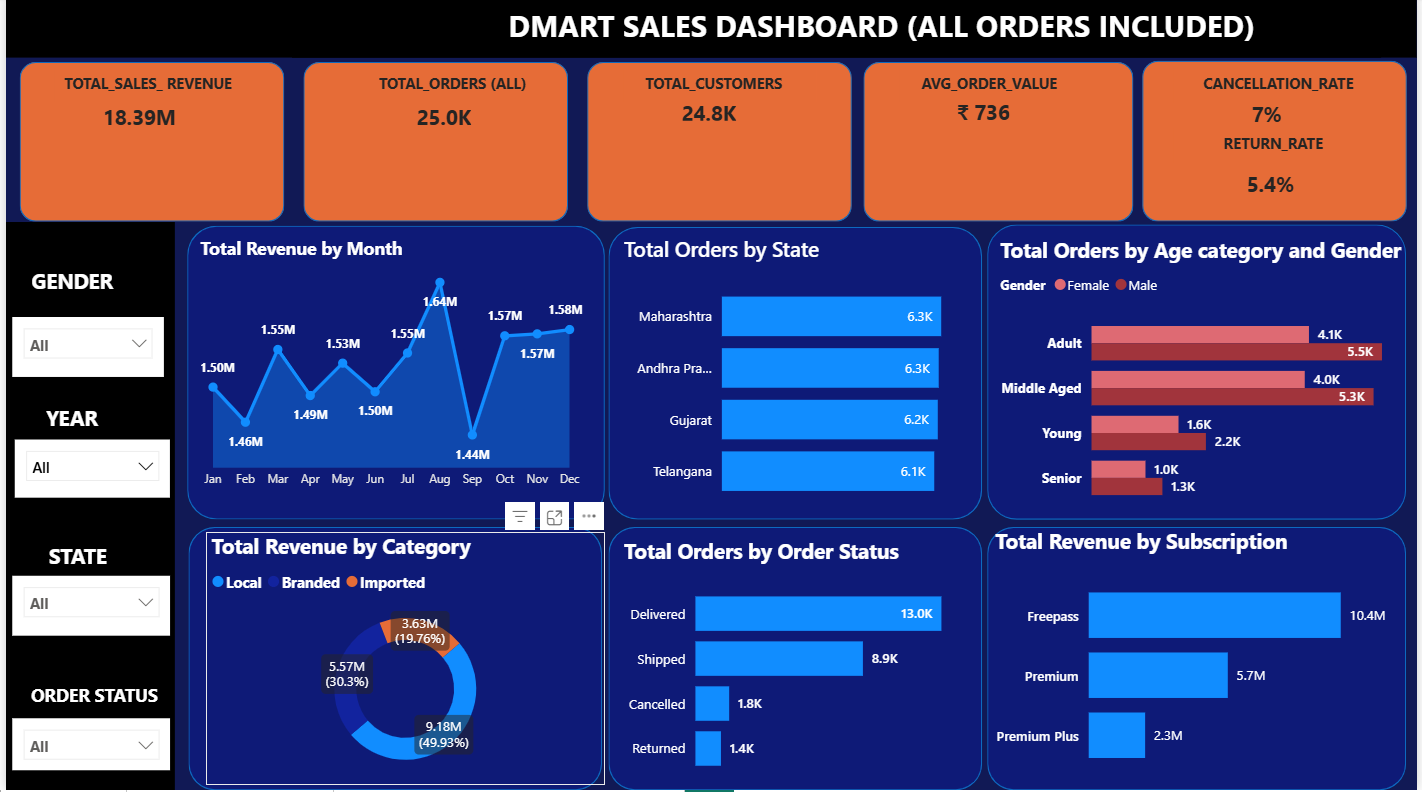

This screenshot's page, from the dashboard's own definition file:
{"tool":"powerbi","page":{"name":"EXECUTIVE ","canvas":[1280,720],"ordinal":0},"visuals":[{"type":"shape","box":[0,203.9,153.2,516.4],"z":0},{"type":"shape","box":[546.5,481.4,339,238.9],"z":1000},{"type":"shape","box":[0,0,1280,55],"z":2000},{"type":"shape","box":[12.1,59.1,240.1,144.8],"z":3000},{"type":"textbox","box":[259.4,2.4,988.1,53.1],"z":4000},{"type":"textbox","box":[44.6,65.1,174.9,30.2],"z":5000},{"type":"cardVisual","fields":{"Data":["Dmart.Total Revenue"]},"box":[59.1,80.8,125.5,54.3],"z":6000},{"type":"shape","box":[270.2,59.1,240.1,144.8],"z":7000},{"type":"textbox","box":[304,65.1,174.9,30.2],"z":8000},{"type":"cardVisual","fields":{"Data":["Dmart.Total Orders"]},"box":[343.8,80.8,113.4,53.1],"z":9000},{"type":"shape","box":[527.2,59.1,240.1,144.8],"z":10000},{"type":"textbox","box":[559.8,65.1,174.9,30.2],"z":11000},{"type":"cardVisual","fields":{"Data":["Dmart.Total Customers"]},"box":[583.9,78.4,109.8,51.9],"z":12000},{"type":"shape","box":[778.2,59.1,244.9,144.8],"z":13000},{"type":"textbox","box":[810.7,65.1,174.9,30.2],"z":14000},{"type":"cardVisual","fields":{"Data":["Dmart.Average Order Value"]},"box":[833.7,76,125.5,53.1],"z":15000},{"type":"shape","box":[1031.5,57.9,240.1,146],"z":16000},{"type":"textbox","box":[1059.3,65.1,205.1,31.4],"z":17000},{"type":"cardVisual","fields":{"Data":["Dmart.Return Rate (%)"]},"box":[1096.7,142.4,111,51.9],"z":18000},{"type":"shape","box":[164.1,207.5,378.8,266.6],"z":19000},{"type":"shape","box":[546.5,208.7,339,265.4],"z":20000},{"type":"shape","box":[165.3,481.1,375.2,238.9],"z":21000},{"type":"shape","box":[890.4,206.3,380,267.8],"z":22000},{"type":"donutChart","fields":{"Category":["Dmart.Category"],"Y":["Dmart.Total Revenue"]},"box":[181,485,361.9,230.4],"z":23000},{"type":"clusteredBarChart","fields":{"Category":["Dmart.Age category"],"Y":["Dmart.Total Orders"],"Series":["Dmart.Gender"]},"box":[897.6,217.2,378.8,258.2],"z":24000},{"type":"barChart","fields":{"Category":["Dmart.State"],"Y":["Dmart.Total Orders"]},"box":[556.2,216,322.1,258.2],"z":25000},{"type":"barChart","fields":{"Y":["Dmart.Total Orders"],"Category":["Dmart.Order Status"]},"box":[556.2,489.8,325.7,230.4],"z":26000},{"type":"shape","box":[890.4,481.1,380,238.9],"z":27000},{"type":"barChart","fields":{"Category":["Dmart.Subscription"],"Y":["Dmart.Total Revenue"]},"box":[892.8,481.1,378.8,238.9],"z":28000},{"type":"areaChart","fields":{"Y":["Dmart.Total Revenue"],"Category":["DateTable.Month"]},"box":[171.3,217.2,357.1,237.7],"z":29000},{"type":"slicer","fields":{"Values":["DateTable.Year"]},"box":[8.4,401.7,141.2,53.1],"z":30000},{"type":"slicer","fields":{"Values":["Dmart.Order Status"]},"box":[6,653.9,143.6,47.1],"z":31000},{"type":"slicer","fields":{"Values":["Dmart.State"]},"box":[6,524.8,143.6,54.3],"z":32000},{"type":"textbox","box":[8.4,489.8,119.4,37.4],"z":33000},{"type":"textbox","box":[6,364.3,119.4,37.4],"z":34000},{"type":"textbox","box":[0,616.5,165.3,37.4],"z":35000},{"type":"slicer","fields":{"Values":["Dmart.Gender"]},"box":[6,290.8,137.5,54.3],"z":36000},{"type":"textbox","box":[8.4,240.1,119.4,37.4],"z":37000},{"type":"textbox","box":[1059.3,119.4,205.1,31.4],"z":38000},{"type":"cardVisual","fields":{"Data":["Dmart.Cancellation Rate (%)"]},"box":[1101.5,79.6,111,51.9],"z":39000}]}

Visuals, with their boxes in screenshot pixels (x1, y1, x2, y2), scaled from the page's 1280x720 canvas onto the 1422x792 screenshot:
shape: bbox=(0, 224, 170, 791)
shape: bbox=(607, 530, 984, 791)
shape: bbox=(0, 0, 1421, 61)
shape: bbox=(13, 65, 280, 224)
textbox: bbox=(288, 3, 1386, 61)
textbox: bbox=(50, 72, 244, 105)
cardVisual - Dmart.Total Revenue: bbox=(66, 89, 205, 149)
shape: bbox=(300, 65, 567, 224)
textbox: bbox=(338, 72, 532, 105)
cardVisual - Dmart.Total Orders: bbox=(382, 89, 508, 147)
shape: bbox=(586, 65, 852, 224)
textbox: bbox=(622, 72, 816, 105)
cardVisual - Dmart.Total Customers: bbox=(649, 86, 771, 143)
shape: bbox=(865, 65, 1137, 224)
textbox: bbox=(901, 72, 1095, 105)
cardVisual - Dmart.Average Order Value: bbox=(926, 84, 1066, 142)
shape: bbox=(1146, 64, 1413, 224)
textbox: bbox=(1177, 72, 1405, 106)
cardVisual - Dmart.Return Rate (%): bbox=(1218, 157, 1342, 214)
shape: bbox=(182, 228, 603, 522)
shape: bbox=(607, 230, 984, 522)
shape: bbox=(184, 529, 600, 791)
shape: bbox=(989, 227, 1411, 522)
donutChart - Dmart.Category x Dmart.Total Revenue: bbox=(201, 534, 603, 787)
clusteredBarChart - Dmart.Age category x Dmart.Total Orders: bbox=(997, 239, 1418, 523)
barChart - Dmart.State x Dmart.Total Orders: bbox=(618, 238, 976, 522)
barChart - Dmart.Total Orders x Dmart.Order Status: bbox=(618, 539, 980, 791)
shape: bbox=(989, 529, 1411, 791)
barChart - Dmart.Subscription x Dmart.Total Revenue: bbox=(992, 529, 1413, 791)
areaChart - Dmart.Total Revenue x DateTable.Month: bbox=(190, 239, 587, 500)
slicer - DateTable.Year: bbox=(9, 442, 166, 500)
slicer - Dmart.Order Status: bbox=(7, 719, 166, 771)
slicer - Dmart.State: bbox=(7, 577, 166, 637)
textbox: bbox=(9, 539, 142, 580)
textbox: bbox=(7, 401, 139, 442)
textbox: bbox=(0, 678, 184, 719)
slicer - Dmart.Gender: bbox=(7, 320, 159, 380)
textbox: bbox=(9, 264, 142, 305)
textbox: bbox=(1177, 131, 1405, 166)
cardVisual - Dmart.Cancellation Rate (%): bbox=(1224, 88, 1347, 145)
